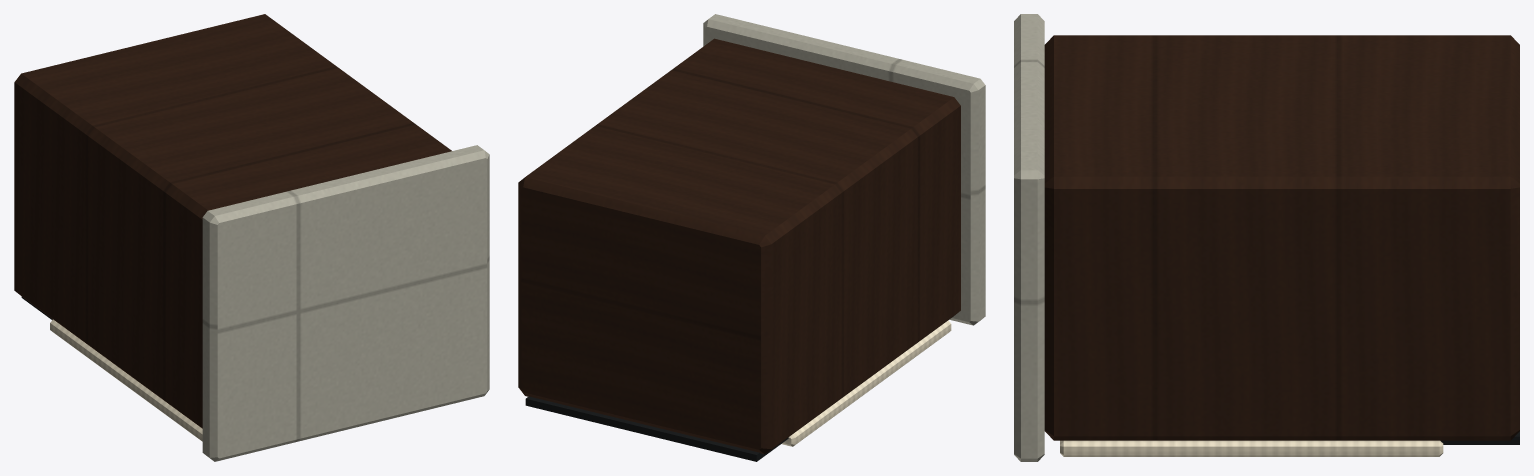
File: shared_bath_vanity.obj
The picture shows the model from 3 angles, left to right: view 1: azimuth 30°, elevation 25°; view 2: azimuth 150°, elevation 25°; view 3: azimuth 270°, elevation 25°; orthographic projection. The views are drawn at different scales.
Parts seen in each view (by area): view 1: shared_bath_vanity_walnut, shared_bath_vanity_tile, shared_bath_vanity_linen; view 2: shared_bath_vanity_walnut, shared_bath_vanity_tile, shared_bath_vanity_charcoal, shared_bath_vanity_linen; view 3: shared_bath_vanity_walnut, shared_bath_vanity_tile, shared_bath_vanity_linen.
Boxes of the visible parts, left/top/right/bottom form: shared_bath_vanity_walnut: left=14, top=14, right=451, bottom=428; shared_bath_vanity_tile: left=202, top=145, right=489, bottom=461; shared_bath_vanity_linen: left=50, top=319, right=202, bottom=441; shared_bath_vanity_walnut: left=518, top=38, right=960, bottom=454; shared_bath_vanity_tile: left=703, top=14, right=985, bottom=325; shared_bath_vanity_charcoal: left=525, top=396, right=788, bottom=461; shared_bath_vanity_linen: left=782, top=320, right=951, bottom=446; shared_bath_vanity_walnut: left=1044, top=35, right=1519, bottom=440; shared_bath_vanity_tile: left=1014, top=14, right=1044, bottom=461; shared_bath_vanity_linen: left=1060, top=440, right=1443, bottom=456.
Bounding box in the file's own units: 25 × 22.1 × 33.
5 materials, 5 textured.
